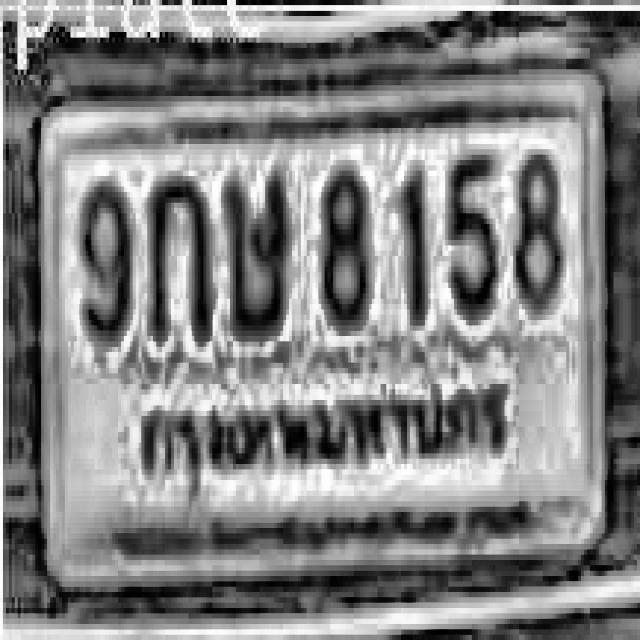license-plate: (27, 77, 615, 599)
